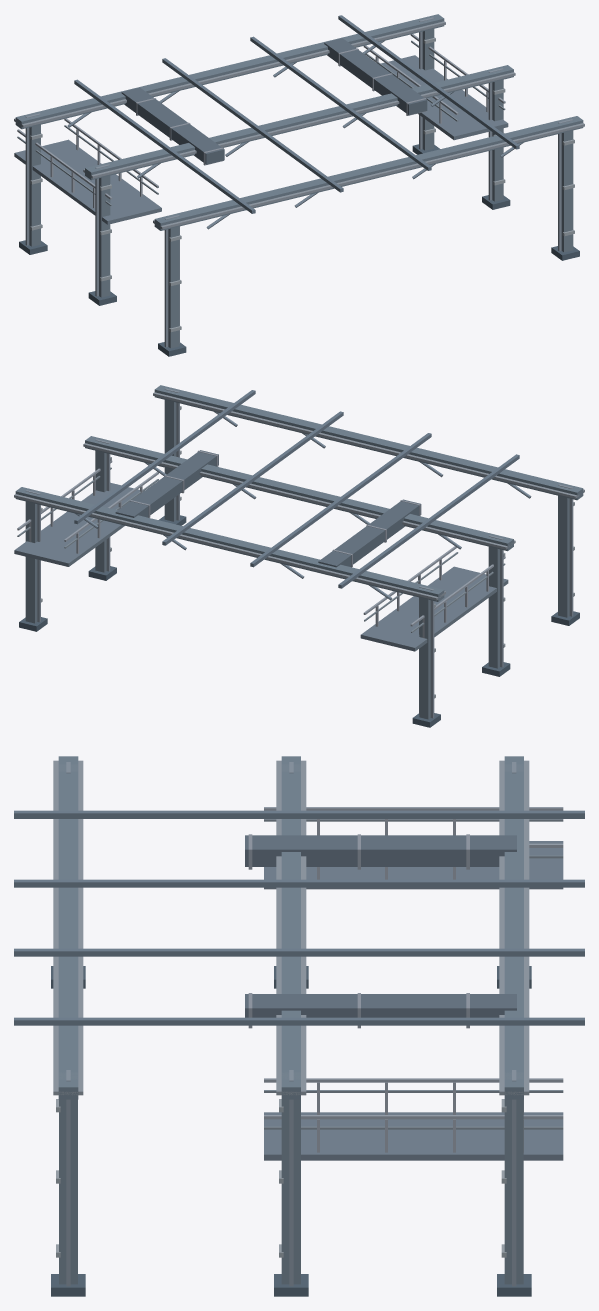
The model's file is hangar-structure.glb.
3 renders of one model, top to bottom at view 1: azimuth 30°, elevation 25°; view 2: azimuth 150°, elevation 25°; view 3: azimuth 270°, elevation 25°, orthographic. The views are drawn at different scales.
Visible parts, largest first — view 1: 048_roof_truss, 058_catwalk_floor, 036_roof_truss, 042_roof_truss, 071_catwalk_floor, 088_hvac_duct, 084_hvac_duct, 049_roof_flange, 037_roof_flange, 043_roof_flange, 030_i_beam, 012_i_beam (+13 smaller); view 2: 048_roof_truss, 036_roof_truss, 058_catwalk_floor, 042_roof_truss, 071_catwalk_floor, 084_hvac_duct, 088_hvac_duct, 037_roof_flange, 049_roof_flange, 043_roof_flange, 012_i_beam, 006_i_beam (+11 smaller); view 3: 071_catwalk_floor, 084_hvac_duct, 048_roof_truss, 088_hvac_duct, 036_roof_truss, 042_roof_truss, 054_ceiling_track, 055_ceiling_track, 056_ceiling_track, 057_ceiling_track, 058_catwalk_floor, 049_roof_flange (+14 smaller).
Boxes of the visible parts, x1,y1,x2,y2 form: 048_roof_truss: (154, 116, 583, 230); 058_catwalk_floor: (14, 139, 161, 224); 036_roof_truss: (15, 14, 444, 129); 042_roof_truss: (85, 65, 513, 180); 071_catwalk_floor: (380, 55, 508, 140); 088_hvac_duct: (324, 38, 427, 115); 084_hvac_duct: (121, 87, 224, 164); 049_roof_flange: (153, 123, 584, 229); 037_roof_flange: (14, 21, 445, 127); 043_roof_flange: (83, 72, 515, 178); 030_i_beam: (558, 118, 573, 252); 012_i_beam: (165, 214, 179, 348); 048_roof_truss: (154, 385, 583, 500); 036_roof_truss: (15, 487, 444, 601); 058_catwalk_floor: (360, 566, 508, 651); 042_roof_truss: (85, 436, 513, 551); 071_catwalk_floor: (14, 482, 139, 566); 084_hvac_duct: (318, 499, 421, 567); 088_hvac_duct: (115, 450, 218, 517); 037_roof_flange: (14, 494, 445, 600); 049_roof_flange: (153, 392, 584, 498); 043_roof_flange: (83, 443, 515, 549); 012_i_beam: (558, 485, 571, 617); 006_i_beam: (488, 534, 503, 668); 071_catwalk_floor: (264, 1112, 563, 1160); 084_hvac_duct: (245, 835, 516, 866); 048_roof_truss: (58, 756, 78, 1099); 088_hvac_duct: (245, 994, 516, 1017); 036_roof_truss: (504, 756, 523, 1099); 042_roof_truss: (281, 756, 300, 1099); 054_ceiling_track: (14, 810, 584, 818); 055_ceiling_track: (14, 879, 584, 887); 056_ceiling_track: (14, 948, 584, 956); 057_ceiling_track: (14, 1017, 584, 1025); 058_catwalk_floor: (264, 841, 563, 889); 049_roof_flange: (53, 760, 83, 1095).
Bounding box in the file's own units: 28.8 × 8.93 × 21.
